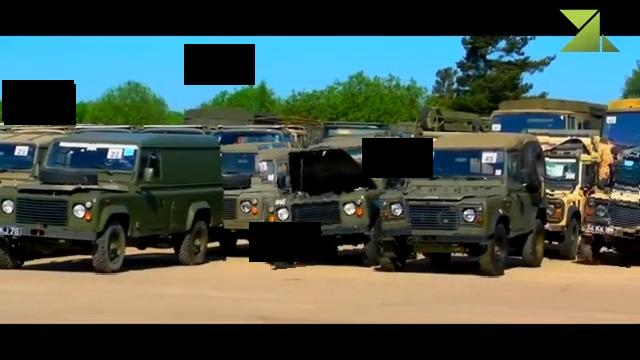MIL_HMMWV: (0, 126, 223, 274), (371, 133, 549, 278), (261, 134, 412, 266), (580, 137, 640, 266)
